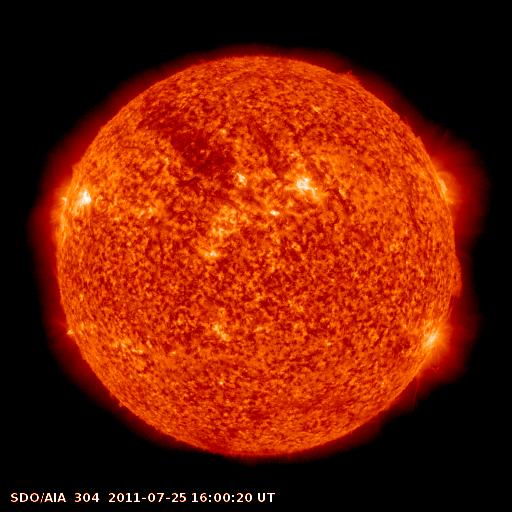prominence: (378, 372, 426, 414), (441, 244, 472, 303)
